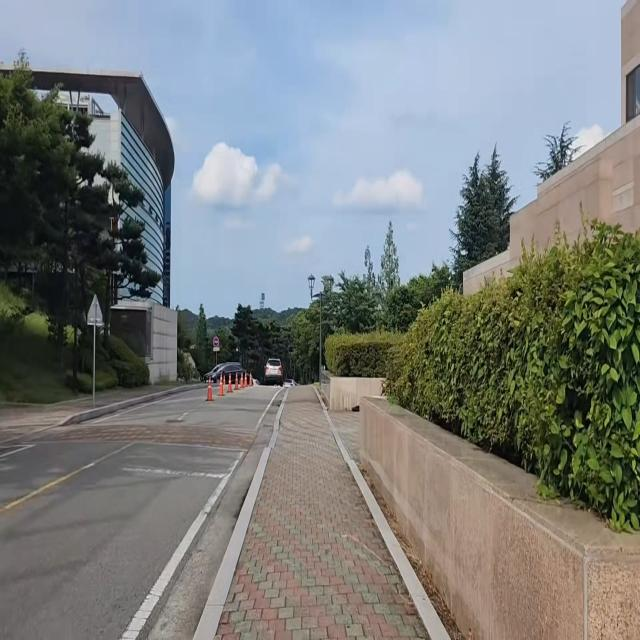obstacle: (202, 354, 262, 391), (262, 353, 290, 390)
road: (0, 388, 284, 640)
sidewalk: (199, 384, 452, 640)
